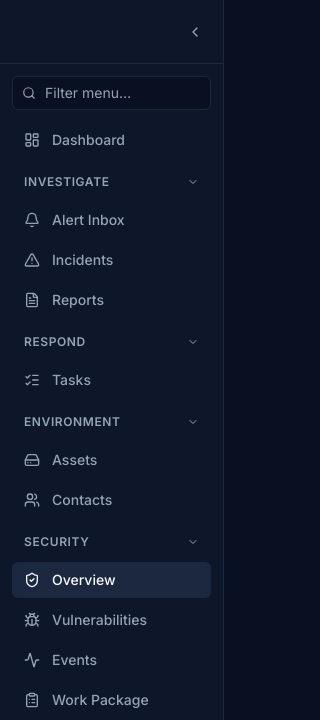
Scenario: AppSidebar › collapses Investigate section items when toggle is clicked
Expected: the link "Incidents" is shown, [24,251,113,268]
Click the button "Investigate".
click(112, 182)  # box [12,166,211,198]
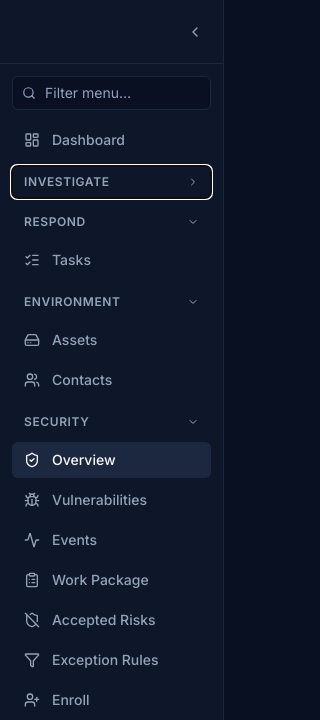
Result: the link "Incidents" is gone
